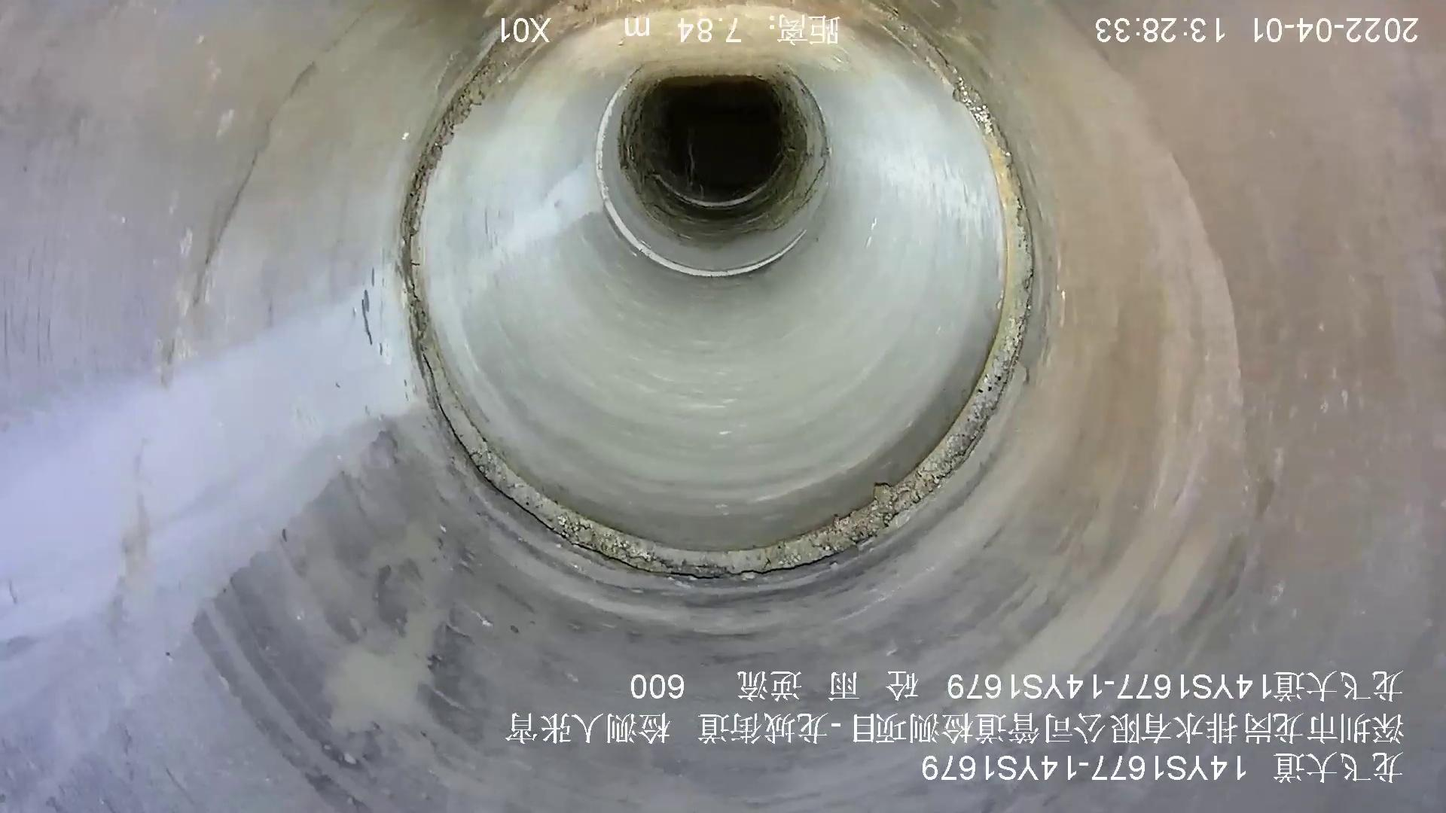CKTJ: (398, 5, 1036, 580), (596, 87, 807, 277), (654, 176, 768, 209)
